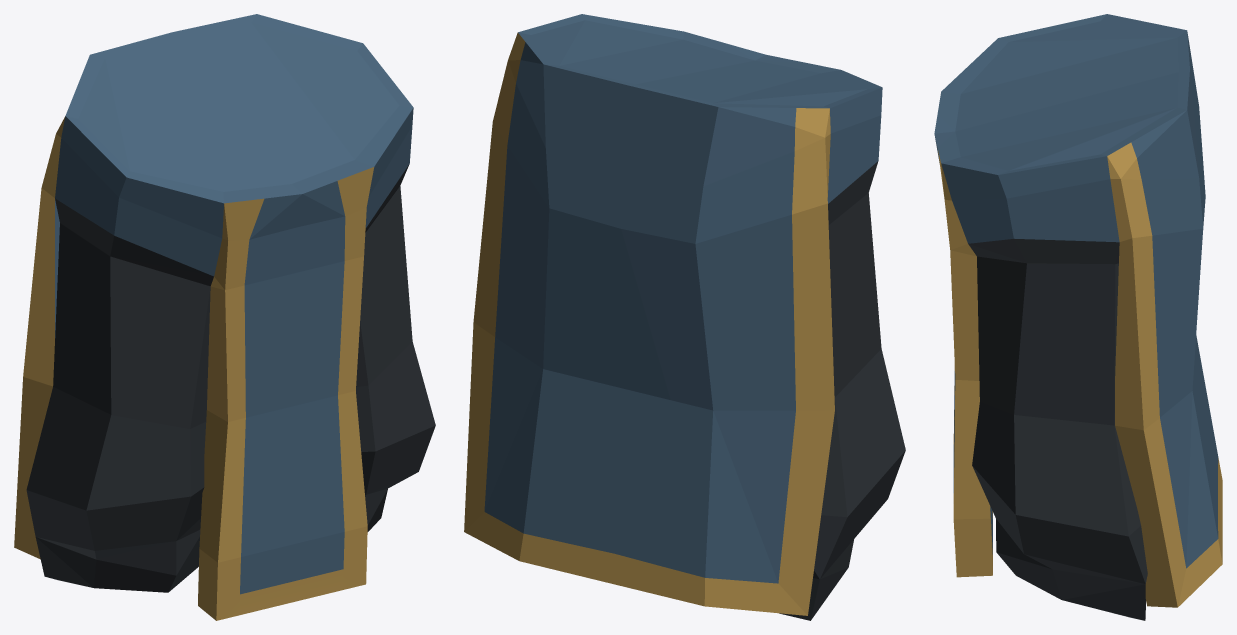
The model's file is Chr_Hips_Male_23_Static.fbx.
3 views of the same model, side by side, from view 1: azimuth 30°, elevation 25°; view 2: azimuth 150°, elevation 25°; view 3: azimuth 270°, elevation 25° (orthographic). The views are drawn at different scales.
Parts seen in each view (by area): view 1: Chr_Hips_Male_23_Static; view 2: Chr_Hips_Male_23_Static; view 3: Chr_Hips_Male_23_Static.
Part boxes in pixels (box(x1,y1,x2,y2)): Chr_Hips_Male_23_Static: box(14, 14, 435, 620); Chr_Hips_Male_23_Static: box(464, 14, 905, 620); Chr_Hips_Male_23_Static: box(934, 14, 1222, 620).
Size of the model in its own units: 0.418 by 0.5545 by 0.3016.
